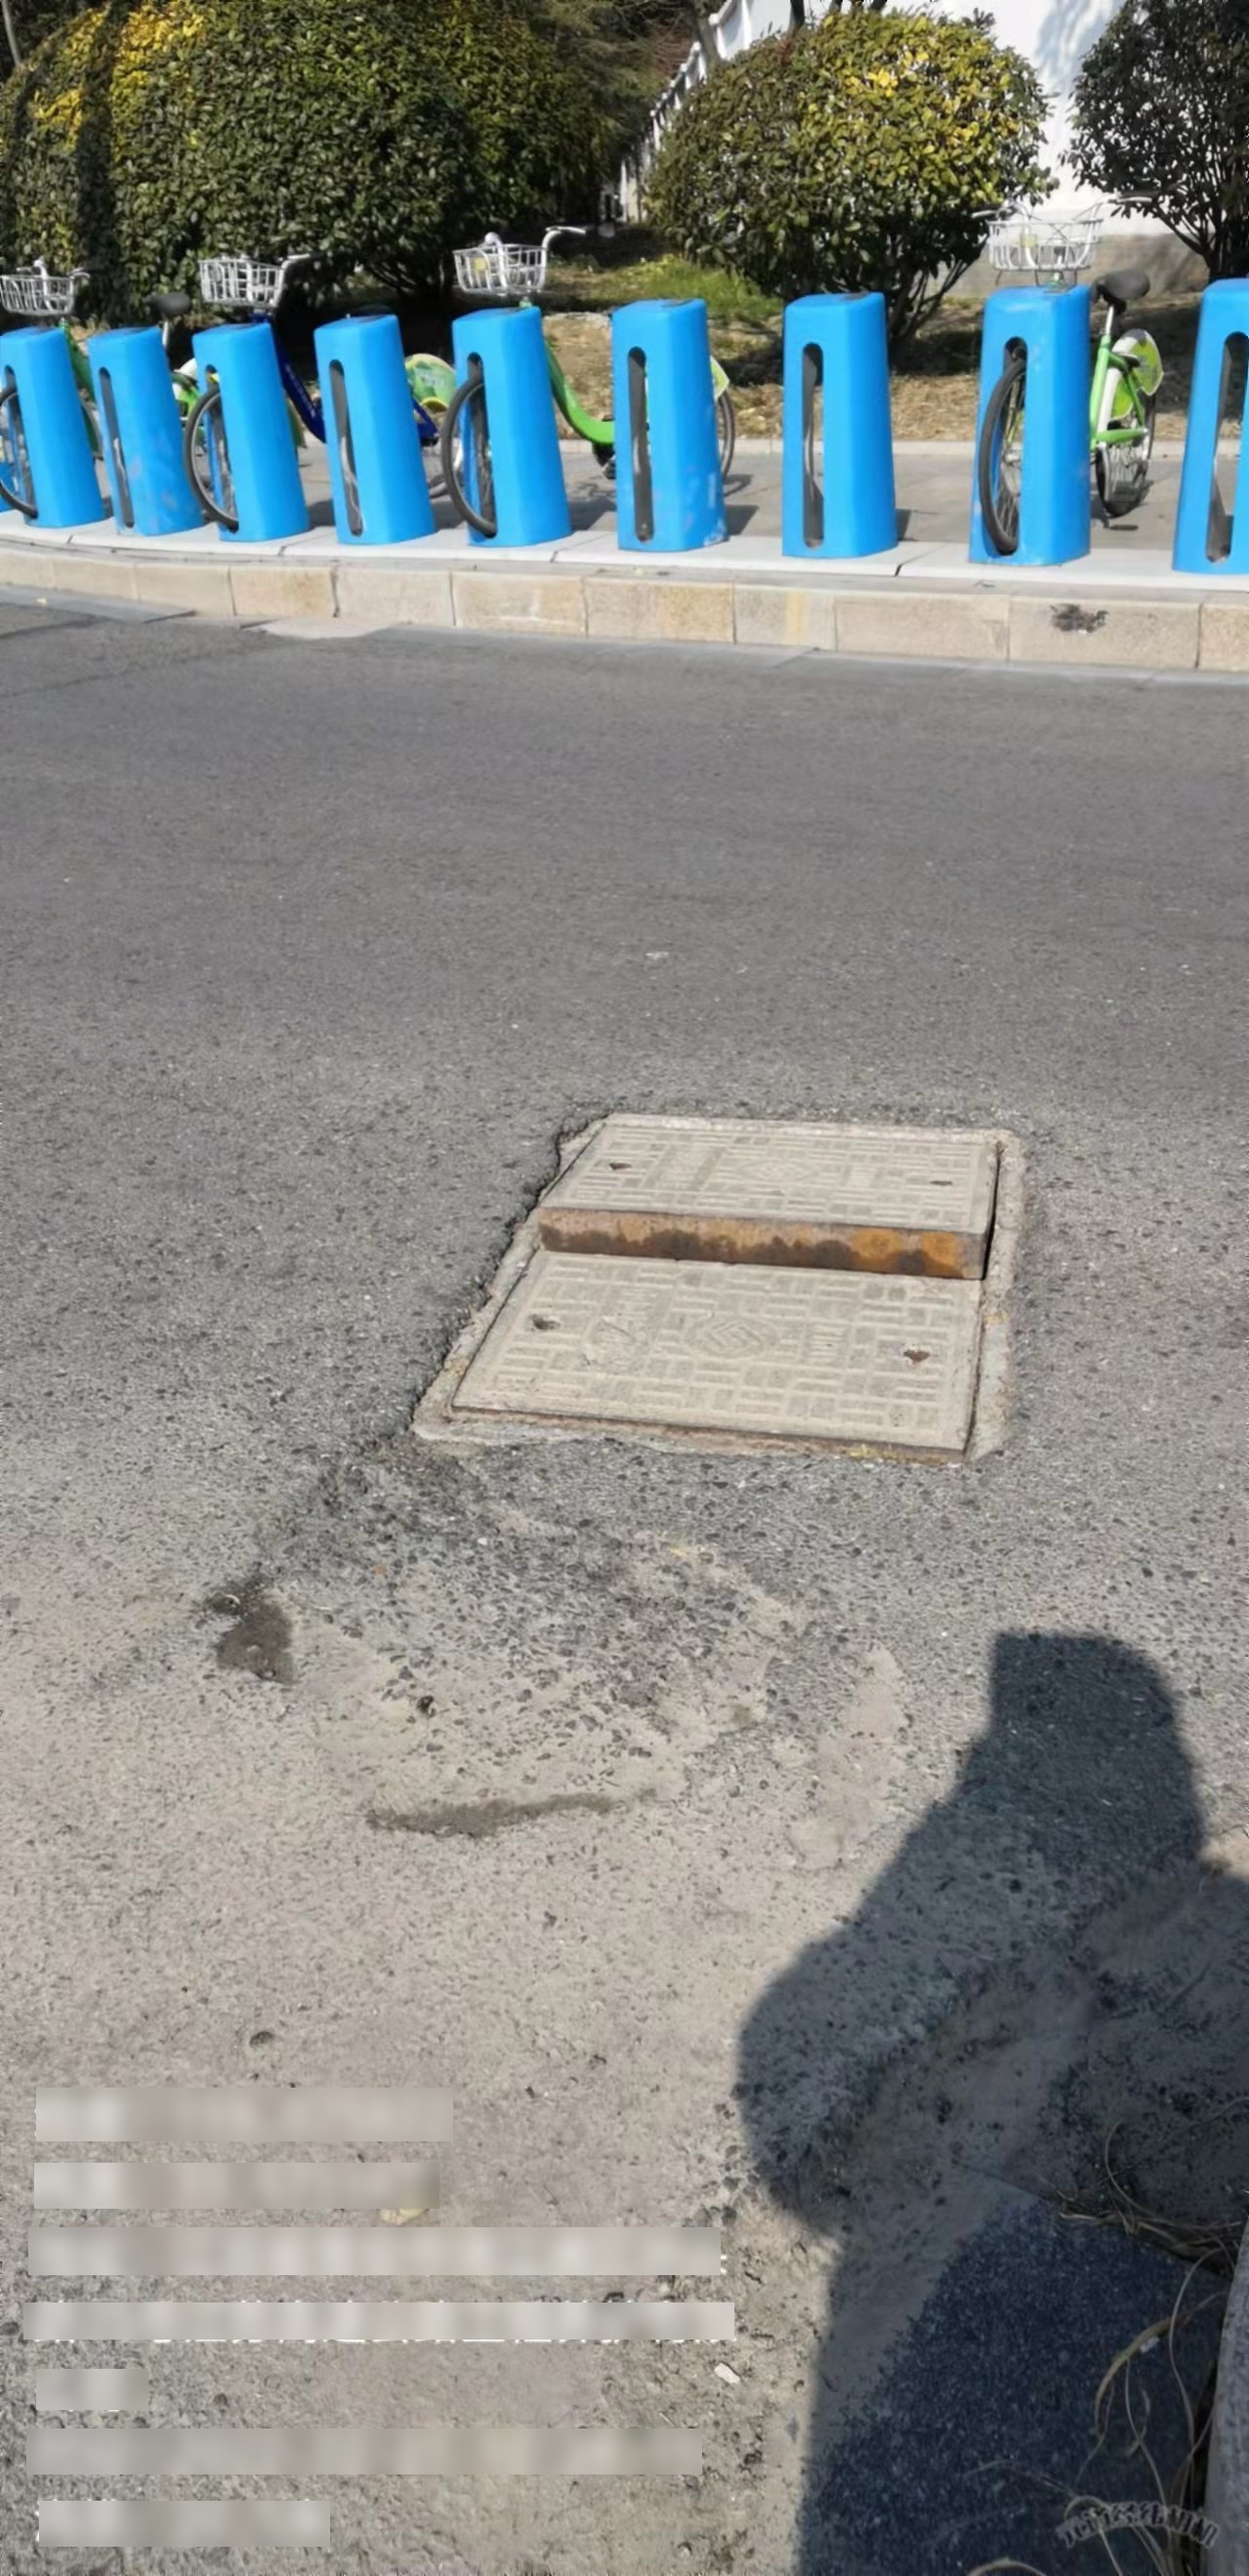uncovered: (415, 1111, 1034, 1469)
